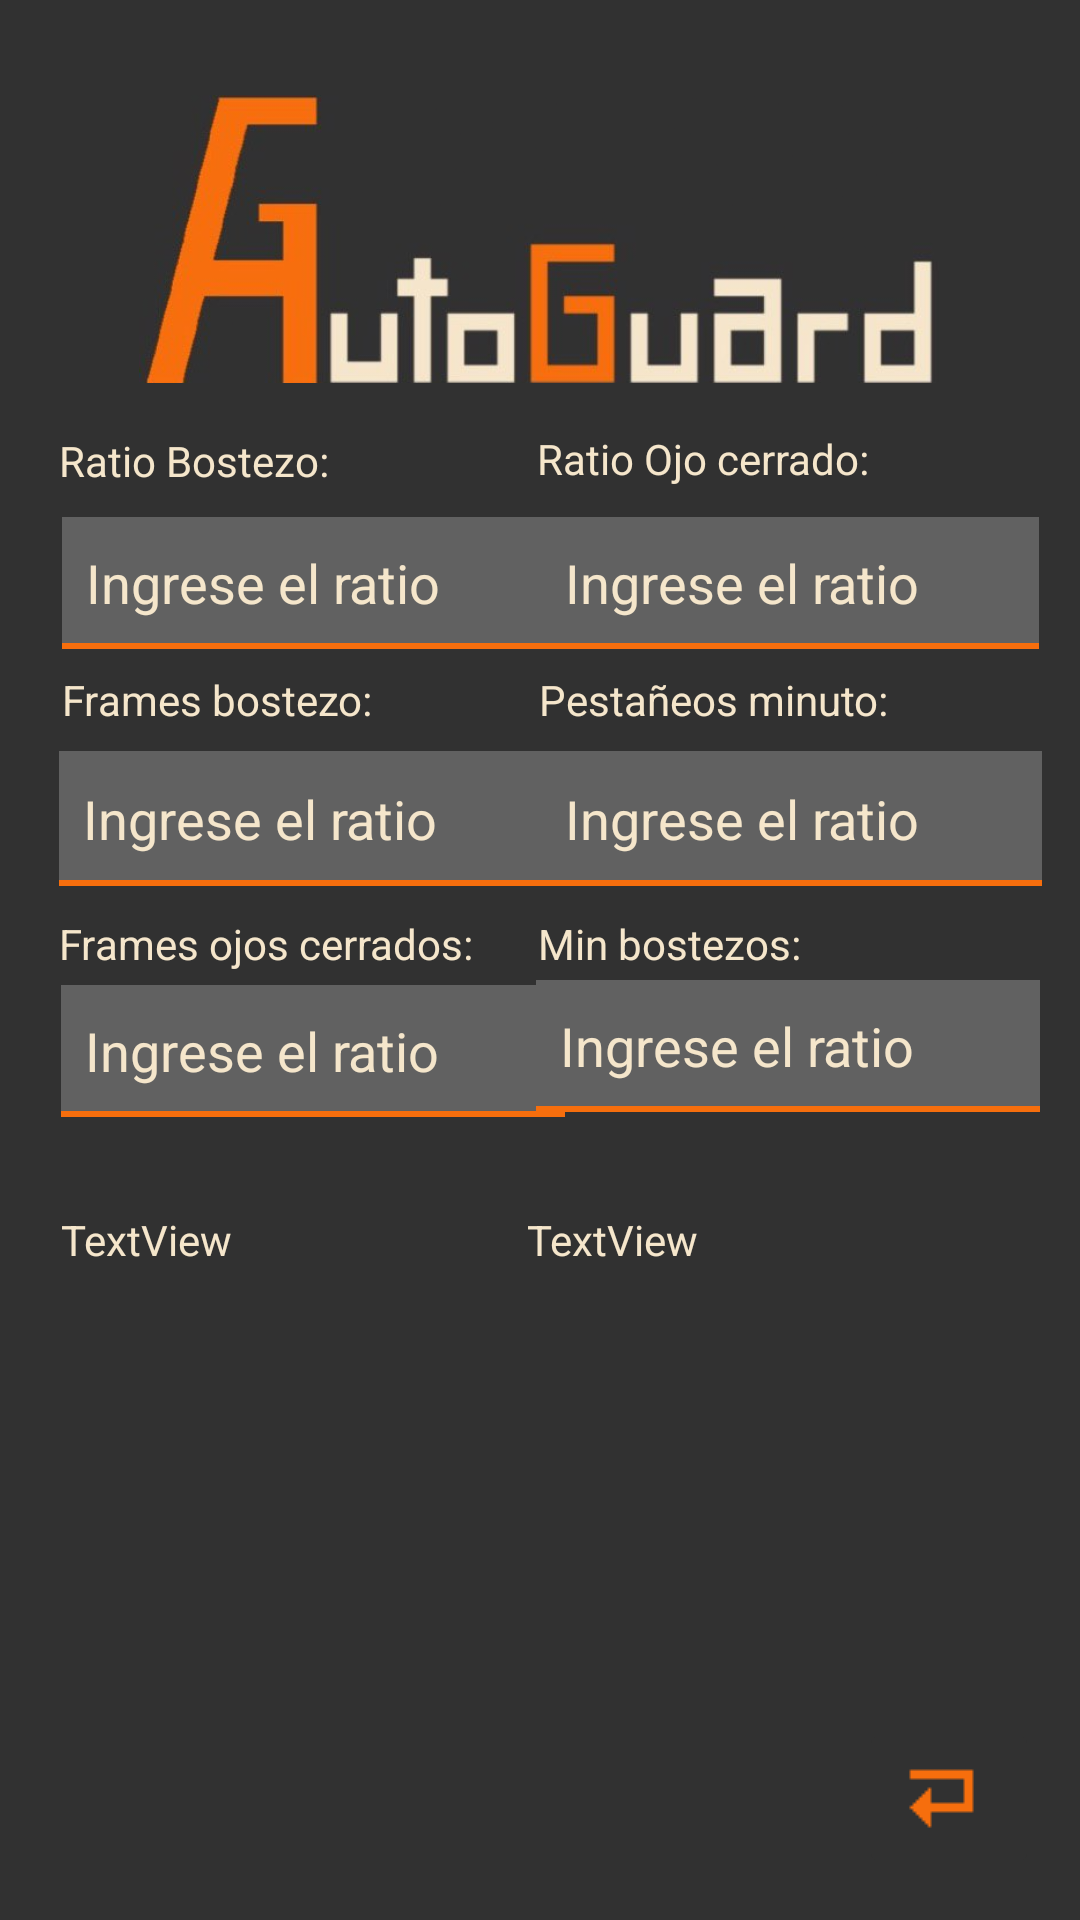

Locate icon controls on the screen. Image size 1080px x 1920px, boxes as (x1, y1, x2, y2).
atras: (909, 1769, 974, 1828)
